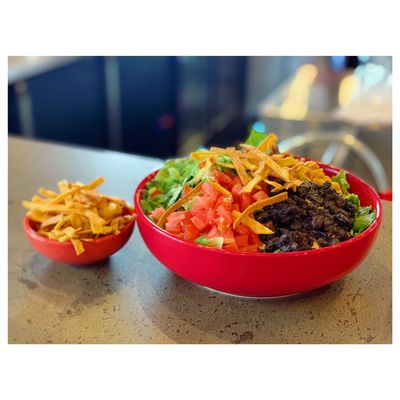sushi: (134, 142, 388, 299), (18, 178, 137, 266)
